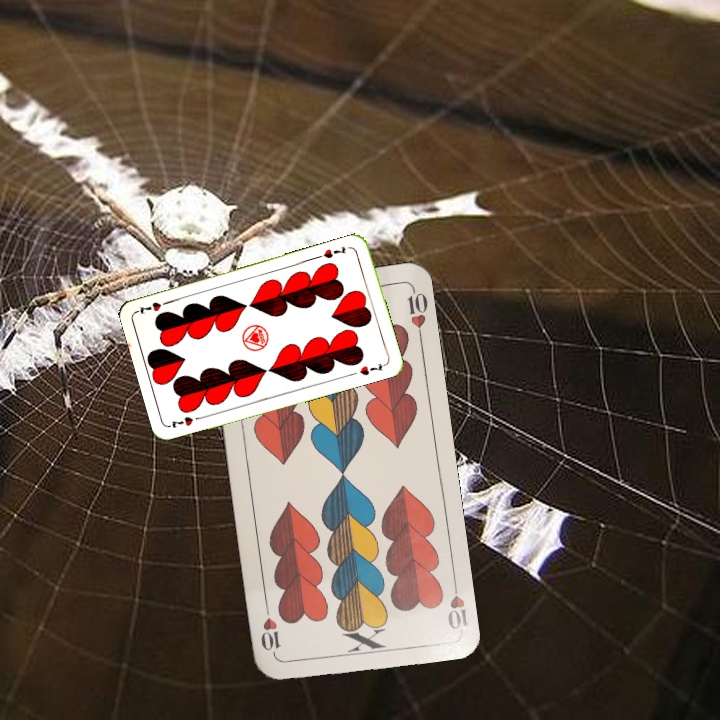H10: (443, 573, 470, 632)
H7: (166, 412, 206, 431), (319, 242, 349, 261)
